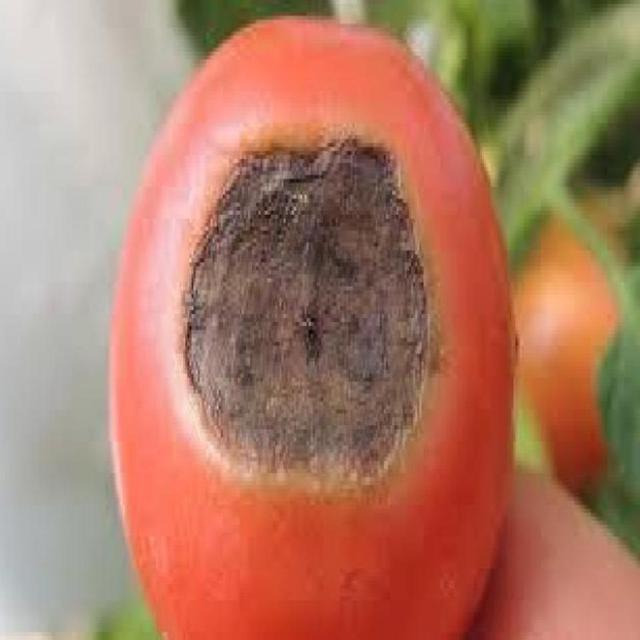Blossom End Rot Fruit: (121, 82, 294, 326)
